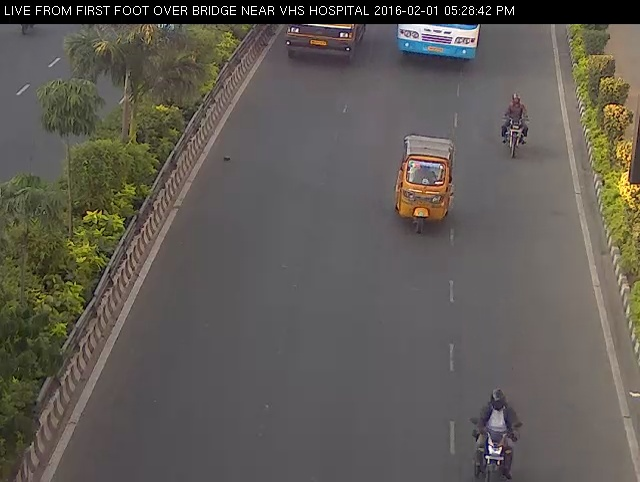Bus: (389, 13, 486, 72), (277, 16, 371, 67)
Car: (384, 127, 466, 243)
Person: (467, 379, 525, 482), (494, 81, 539, 176)
